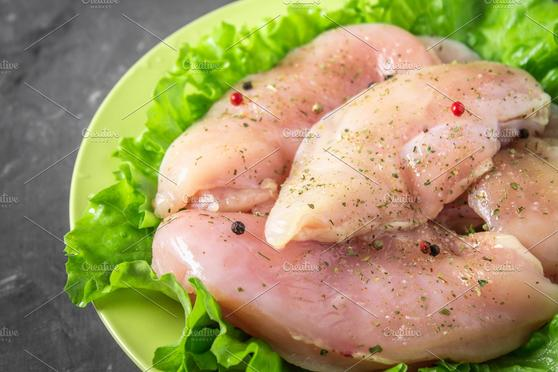chicken_fillet: (273, 54, 549, 257)
